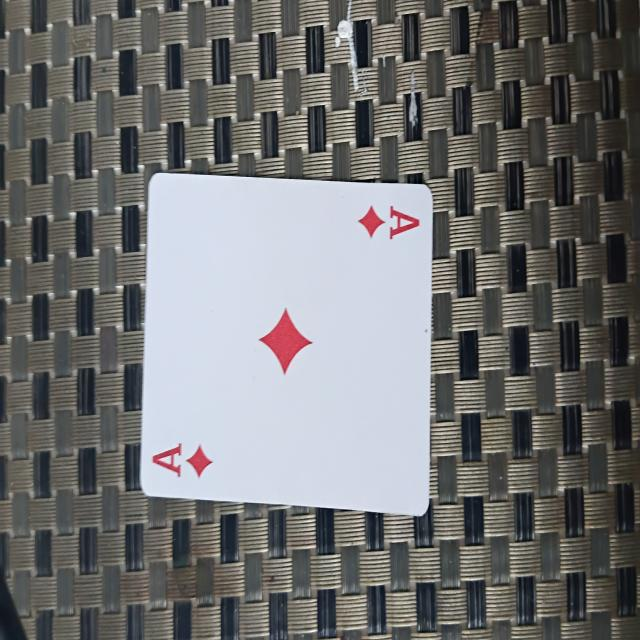AD: (144, 173, 432, 513)
